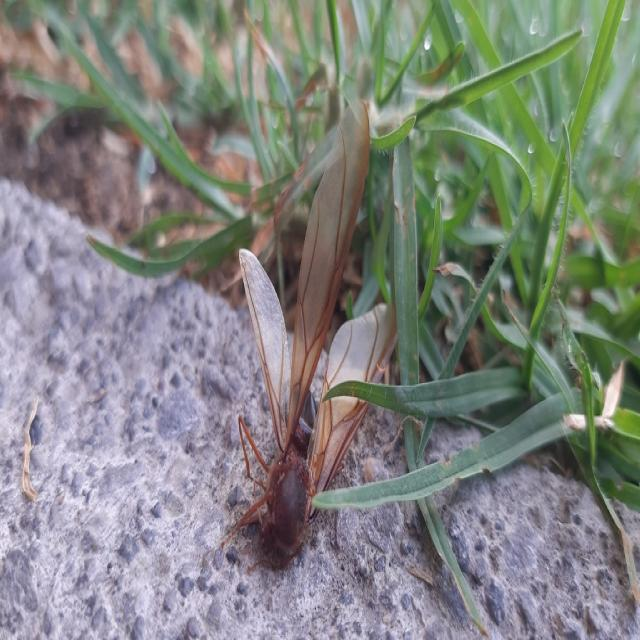Dead-Male-Alate: (220, 97, 398, 576)
